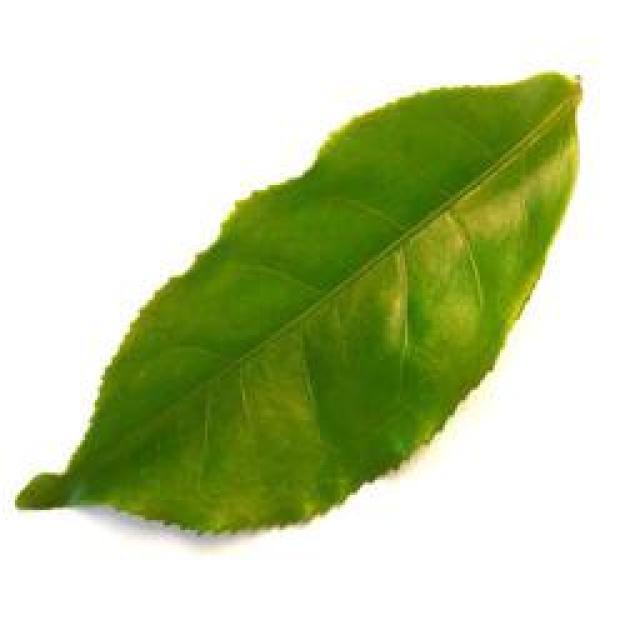Healthy: (18, 56, 602, 548)
